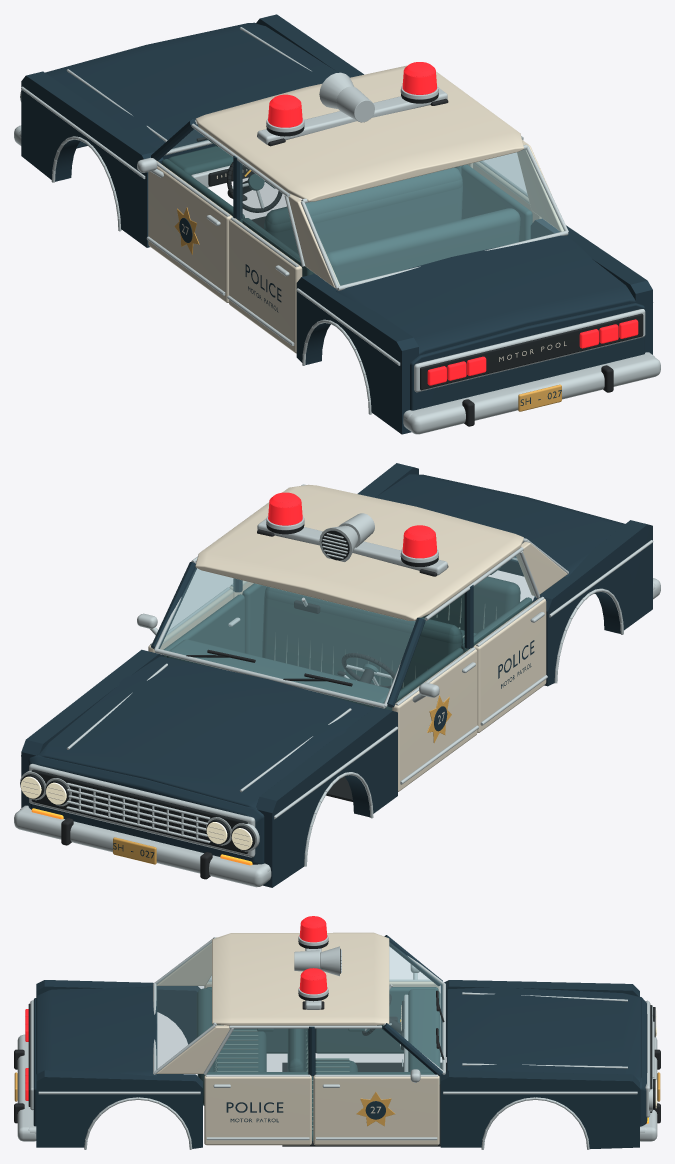
The model's file is PatrolCruiserRolling.fbx.
3 renders of one model, top to bottom at view 1: azimuth 30°, elevation 25°; view 2: azimuth 150°, elevation 25°; view 3: azimuth 270°, elevation 25°, orthographic. The views are drawn at different scales.
Parts seen in each view (by area): view 1: PatrolCruiserRolling; view 2: PatrolCruiserRolling; view 3: PatrolCruiserRolling.
Part boxes in pixels (x1=…): PatrolCruiserRolling: x1=14, y1=14, x2=660, y2=434; PatrolCruiserRolling: x1=14, y1=463, x2=660, y2=887; PatrolCruiserRolling: x1=14, y1=916, x2=660, y2=1149.
Bounding box in the file's own units: 251 × 163 × 593.
